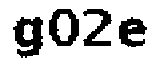0: (48, 4, 83, 50)
2: (81, 5, 114, 50)
e: (117, 15, 149, 49)
g: (11, 14, 43, 60)
